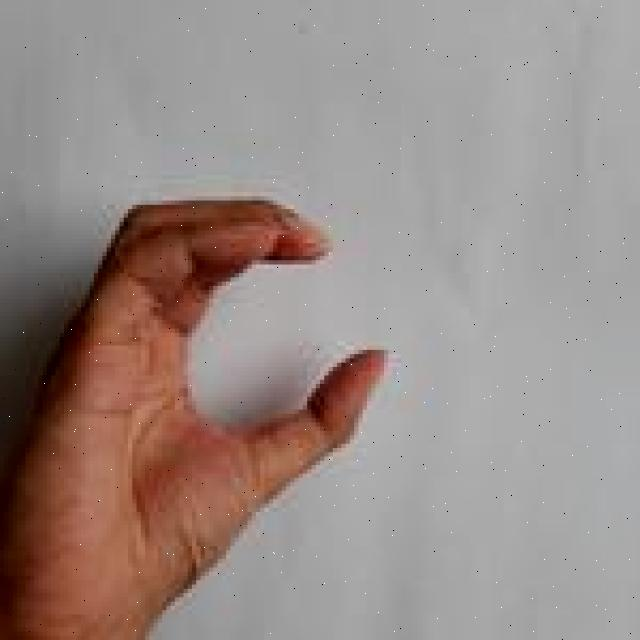C: (2, 193, 390, 640)
